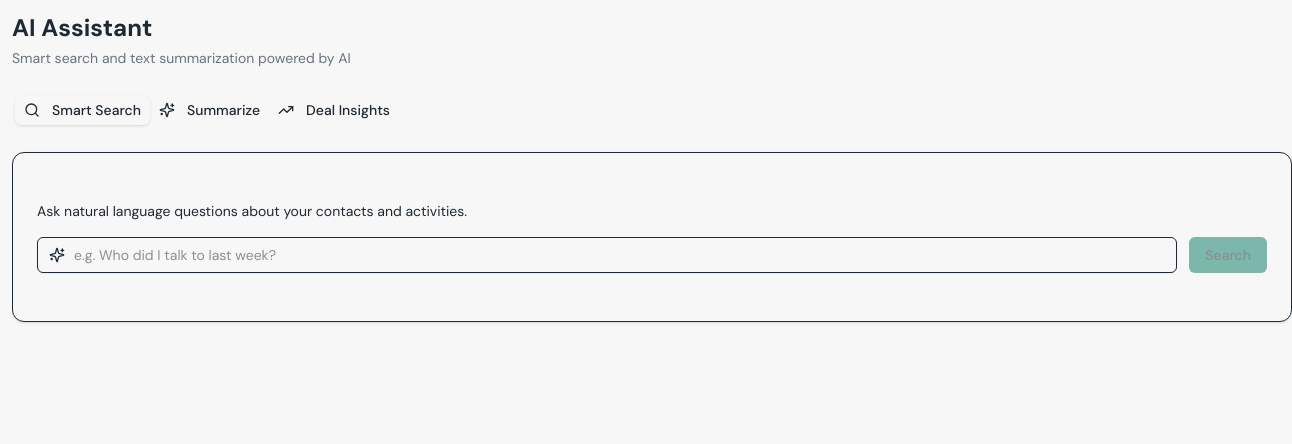
Test: AiPanelPage › renders multiple tokens concatenated from search stream
In the field with placeholder "e.g. Who did I talk to last week?": (607, 255) left=37, top=237, right=1177, bottom=273, type "plain"
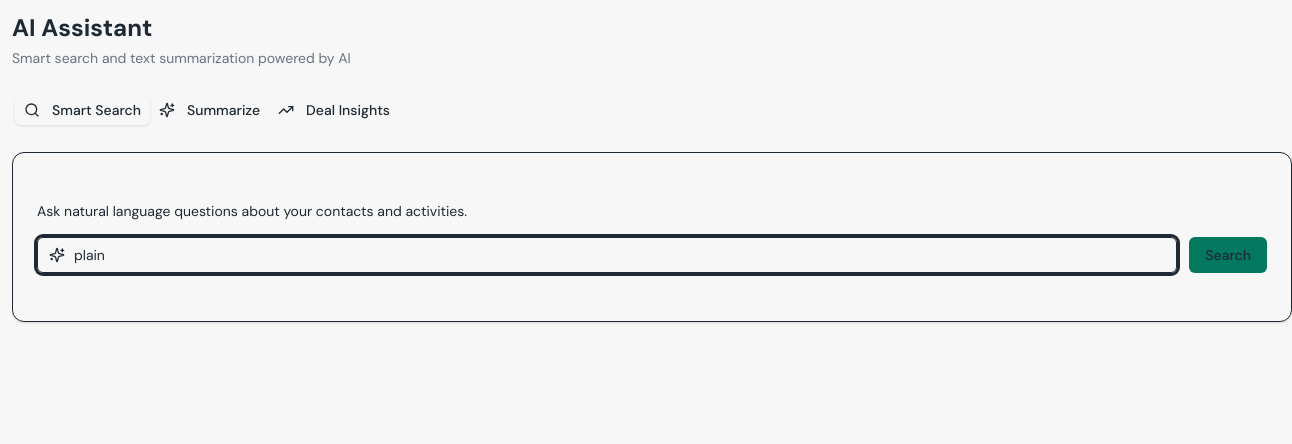
Click the button "Search": (1228, 255) left=1189, top=237, right=1267, bottom=273
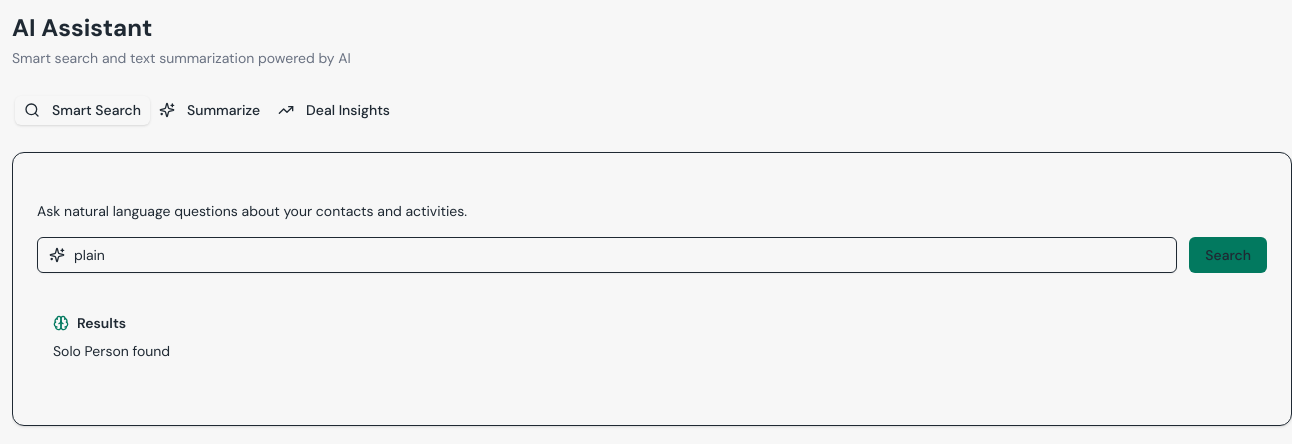
Now the text "Solo Person found" is shown, box left=53, top=342, right=170, bottom=360
